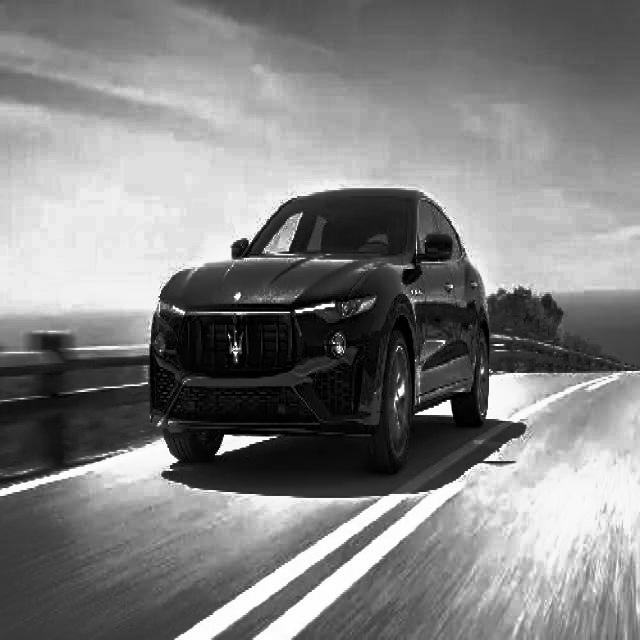Car: (134, 162, 509, 485)
